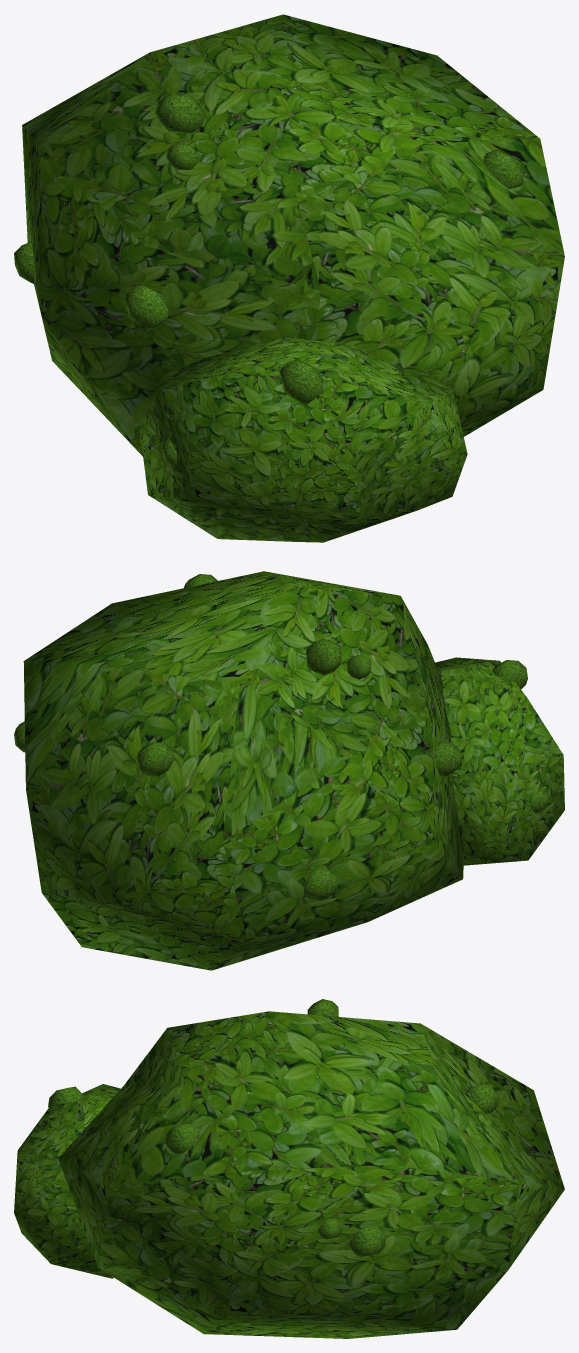
The model's file is bush.obj.
3 renders of one model, top to bottom at view 1: azimuth 30°, elevation 25°; view 2: azimuth 150°, elevation 25°; view 3: azimuth 270°, elevation 25°, orthographic. The views are drawn at different scales.
Visible parts, largest first — view 1: Hedra001; view 2: Hedra001; view 3: Hedra001.
Part boxes in pixels (box(x1,y1,x2,y2)): Hedra001: box(14, 14, 564, 542); Hedra001: box(14, 571, 564, 970); Hedra001: box(14, 999, 564, 1338).
Bounding box in the file's own units: 17.31 × 13.73 × 22.83.
